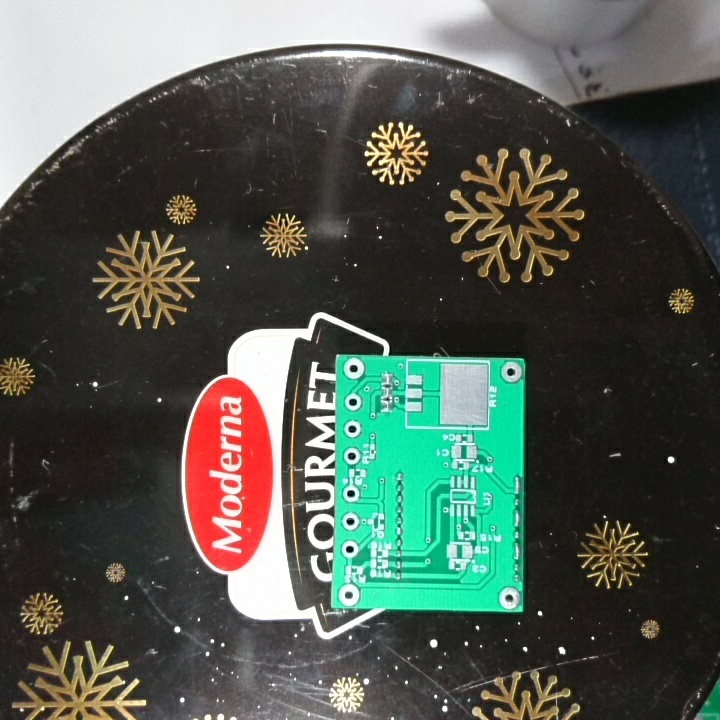F: (337, 580, 363, 608), (497, 585, 523, 611), (498, 360, 524, 385), (341, 357, 366, 381), (341, 391, 363, 414), (339, 483, 362, 505), (339, 511, 362, 533), (339, 538, 362, 560), (342, 418, 364, 440), (341, 446, 361, 466)
P: (511, 509, 523, 532), (511, 473, 522, 498), (511, 539, 522, 562)
